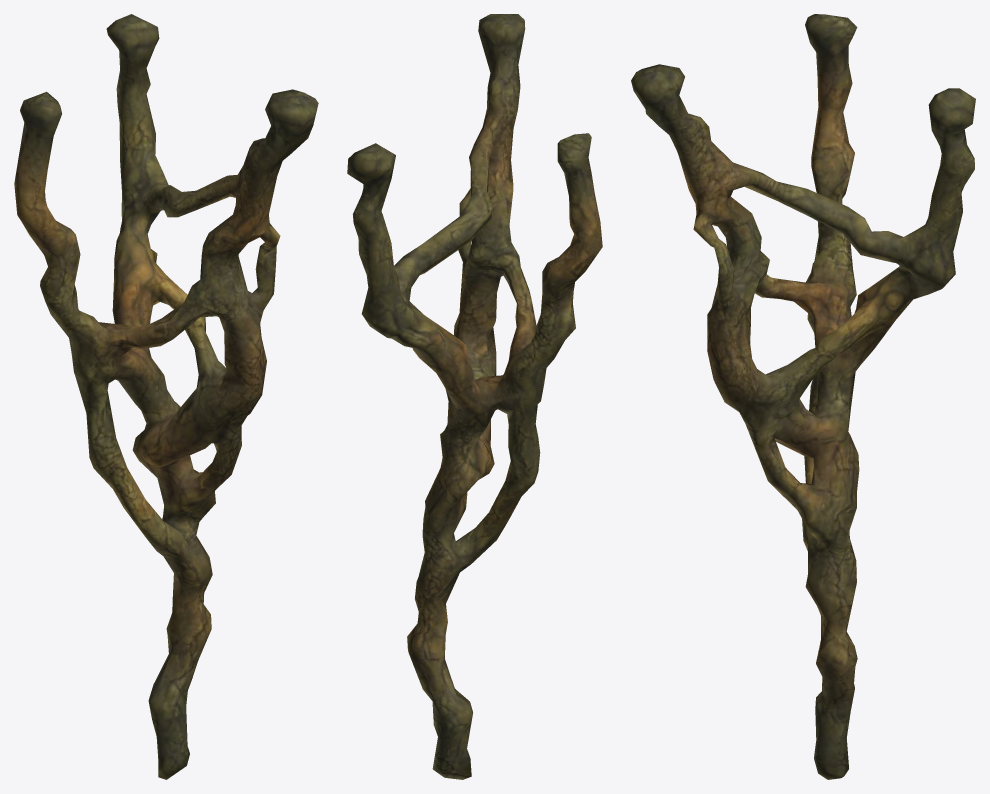
Rendered from Biomass - TC 4-CCGa1os9.glb.
The picture shows the model from 3 angles, left to right: view 1: azimuth 30°, elevation 25°; view 2: azimuth 150°, elevation 25°; view 3: azimuth 270°, elevation 25°; orthographic projection. The views are drawn at different scales.
Parts seen in each view (by area): view 1: BiomassTC_4; view 2: BiomassTC_4; view 3: BiomassTC_4.
Boxes of the visible parts, left/top/right/bottom form: BiomassTC_4: left=14, top=14, right=318, bottom=779; BiomassTC_4: left=347, top=14, right=602, bottom=779; BiomassTC_4: left=631, top=14, right=975, bottom=779.
Size of the model in its own units: 0.7862 by 2.58 by 1.11.
Materials: 1 (1 with a texture image).
